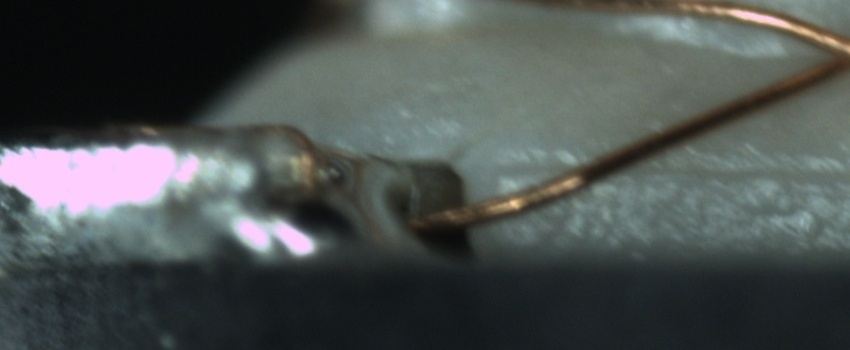CL: (798, 20, 850, 93)
DL: (501, 138, 849, 201)
TE: (124, 119, 328, 189)
